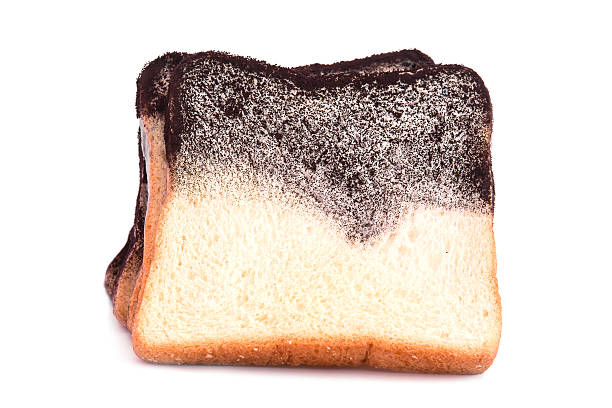mold_bread: (117, 35, 502, 238), (102, 221, 154, 328)
